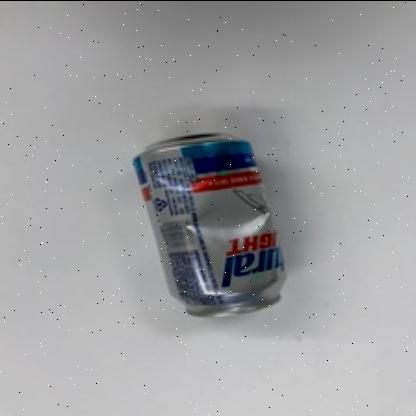Can: (133, 130, 287, 318)
